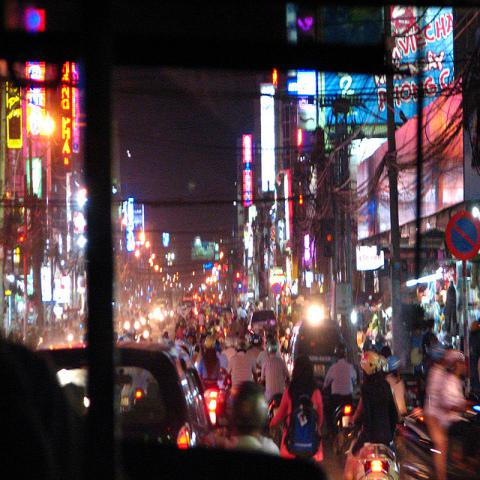car: (28, 338, 216, 449), (283, 318, 347, 380), (248, 311, 279, 336), (146, 298, 171, 328), (182, 293, 194, 306)
motorcycle: (394, 399, 480, 479), (342, 443, 404, 479), (332, 398, 353, 455), (267, 392, 284, 446), (204, 384, 221, 434), (138, 325, 154, 343), (158, 313, 166, 332)
